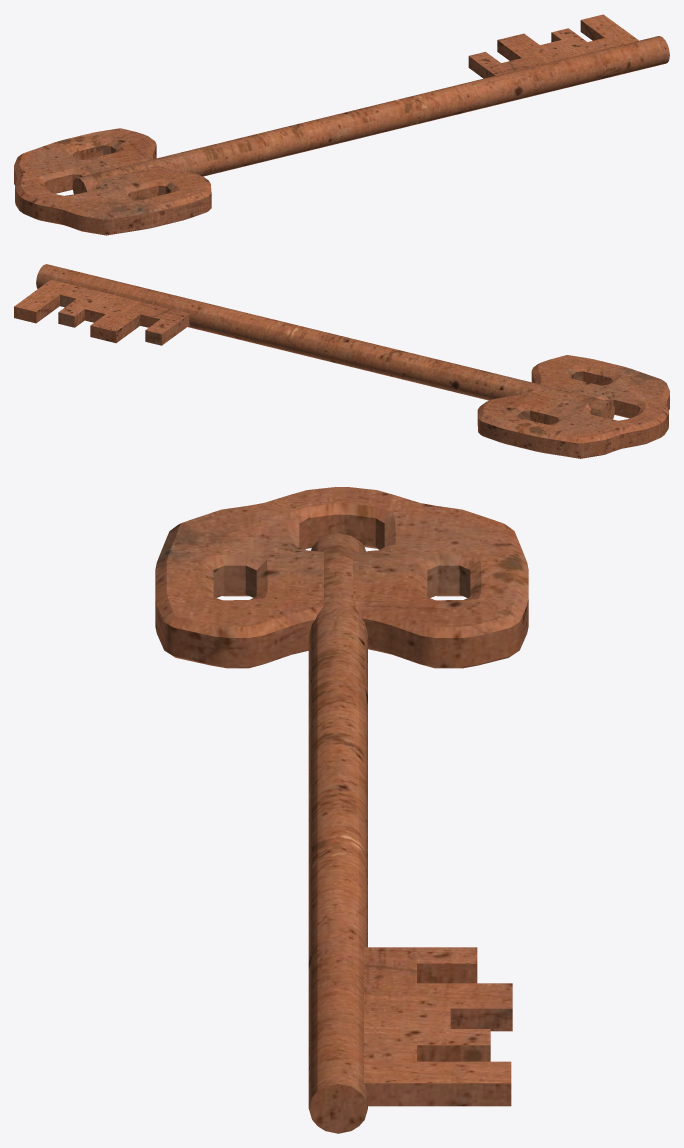
Rendered from TextureKey.obj.
The picture shows the model from 3 angles, top to bottom: view 1: azimuth 30°, elevation 25°; view 2: azimuth 150°, elevation 25°; view 3: azimuth 270°, elevation 25°; orthographic projection. The views are drawn at different scales.
Visible parts, largest first — view 1: pasted__pCube2; view 2: pasted__pCube2; view 3: pasted__pCube2.
Part boxes in pixels (x1,y1,x2,y2): pasted__pCube2: (14,14,669,235); pasted__pCube2: (14,264,669,458); pasted__pCube2: (155,487,528,1133).
Size of the model in its own units: 8.67 by 0.3342 by 2.26.
Materials: 1 (1 with a texture image).
